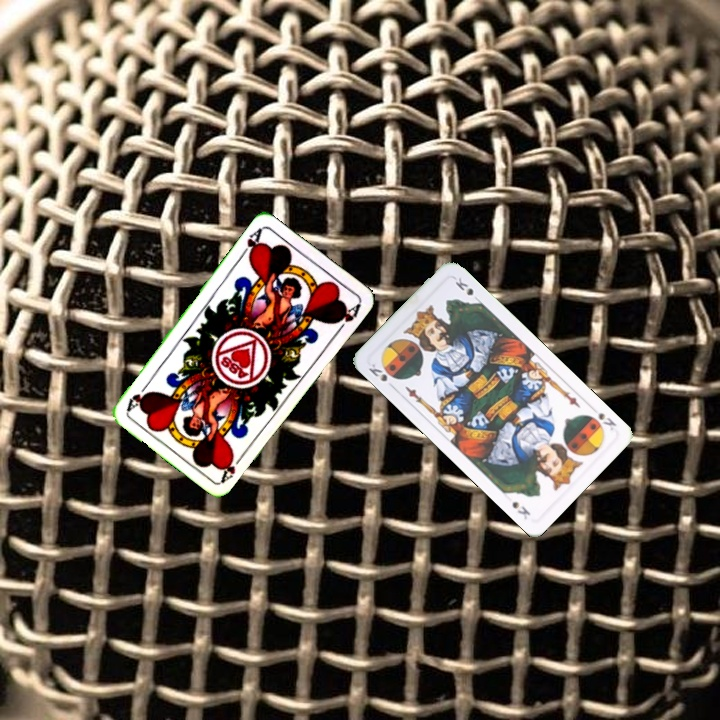HA: (236, 224, 264, 262), (217, 449, 247, 484)
SK: (584, 409, 619, 434), (364, 359, 390, 384)
